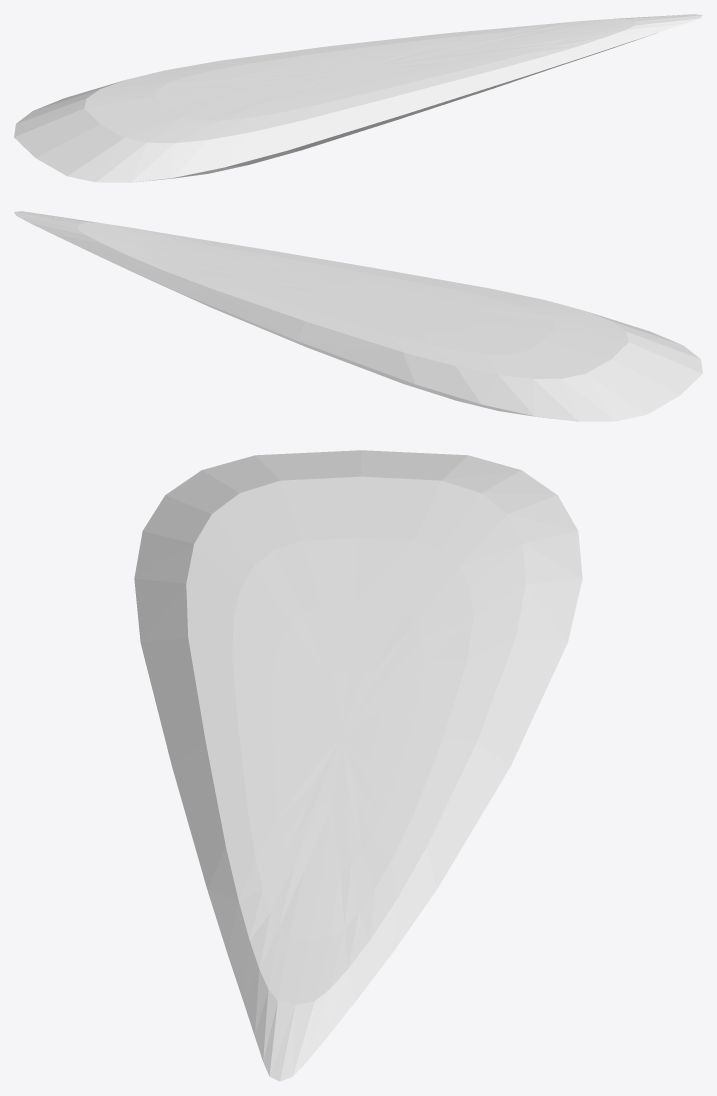
The model's file is animal_goose_wing.obj.
The picture shows the model from 3 angles, top to bottom: view 1: azimuth 30°, elevation 25°; view 2: azimuth 150°, elevation 25°; view 3: azimuth 270°, elevation 25°; orthographic projection. The views are drawn at different scales.
Visible parts, largest first — view 1: animal_goose_wing; view 2: animal_goose_wing; view 3: animal_goose_wing.
Boxes of the visible parts, <box> form: animal_goose_wing: <box>14,14,702,182</box>; animal_goose_wing: <box>14,211,702,421</box>; animal_goose_wing: <box>134,450,582,1081</box>.
Size of the model in its own units: 0.63 by 0.036 by 0.189.
